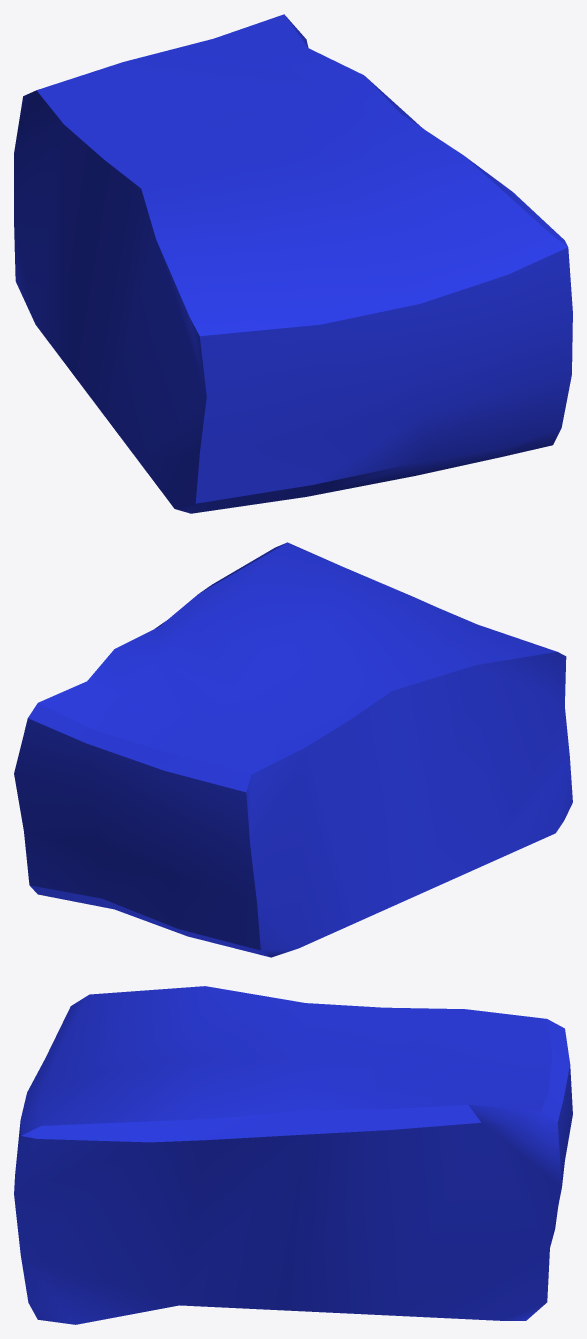
The model's file is veal_n2.1_low.fbx.
3 renders of one model, top to bottom at view 1: azimuth 30°, elevation 25°; view 2: azimuth 150°, elevation 25°; view 3: azimuth 270°, elevation 25°, orthographic. The views are drawn at different scales.
Parts seen in each view (by area): view 1: veal__n2.1_low; view 2: veal__n2.1_low; view 3: veal__n2.1_low.
Boxes of the visible parts, x1=… form: veal__n2.1_low: x1=14, y1=14, x2=572, y2=513; veal__n2.1_low: x1=14, y1=542, x2=572, y2=957; veal__n2.1_low: x1=14, y1=986, x2=572, y2=1324.
Size of the model in its own units: 9.47 by 6.01 by 13.74.
